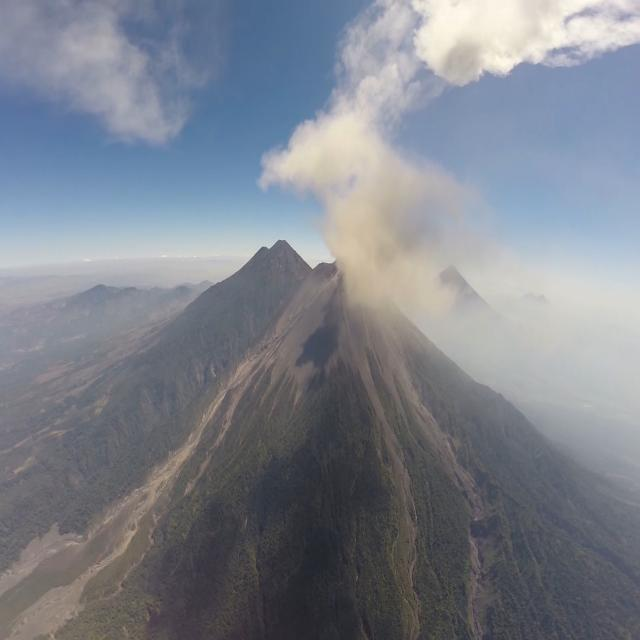Plume: (258, 96, 480, 334), (5, 0, 228, 154), (406, 0, 638, 84)
